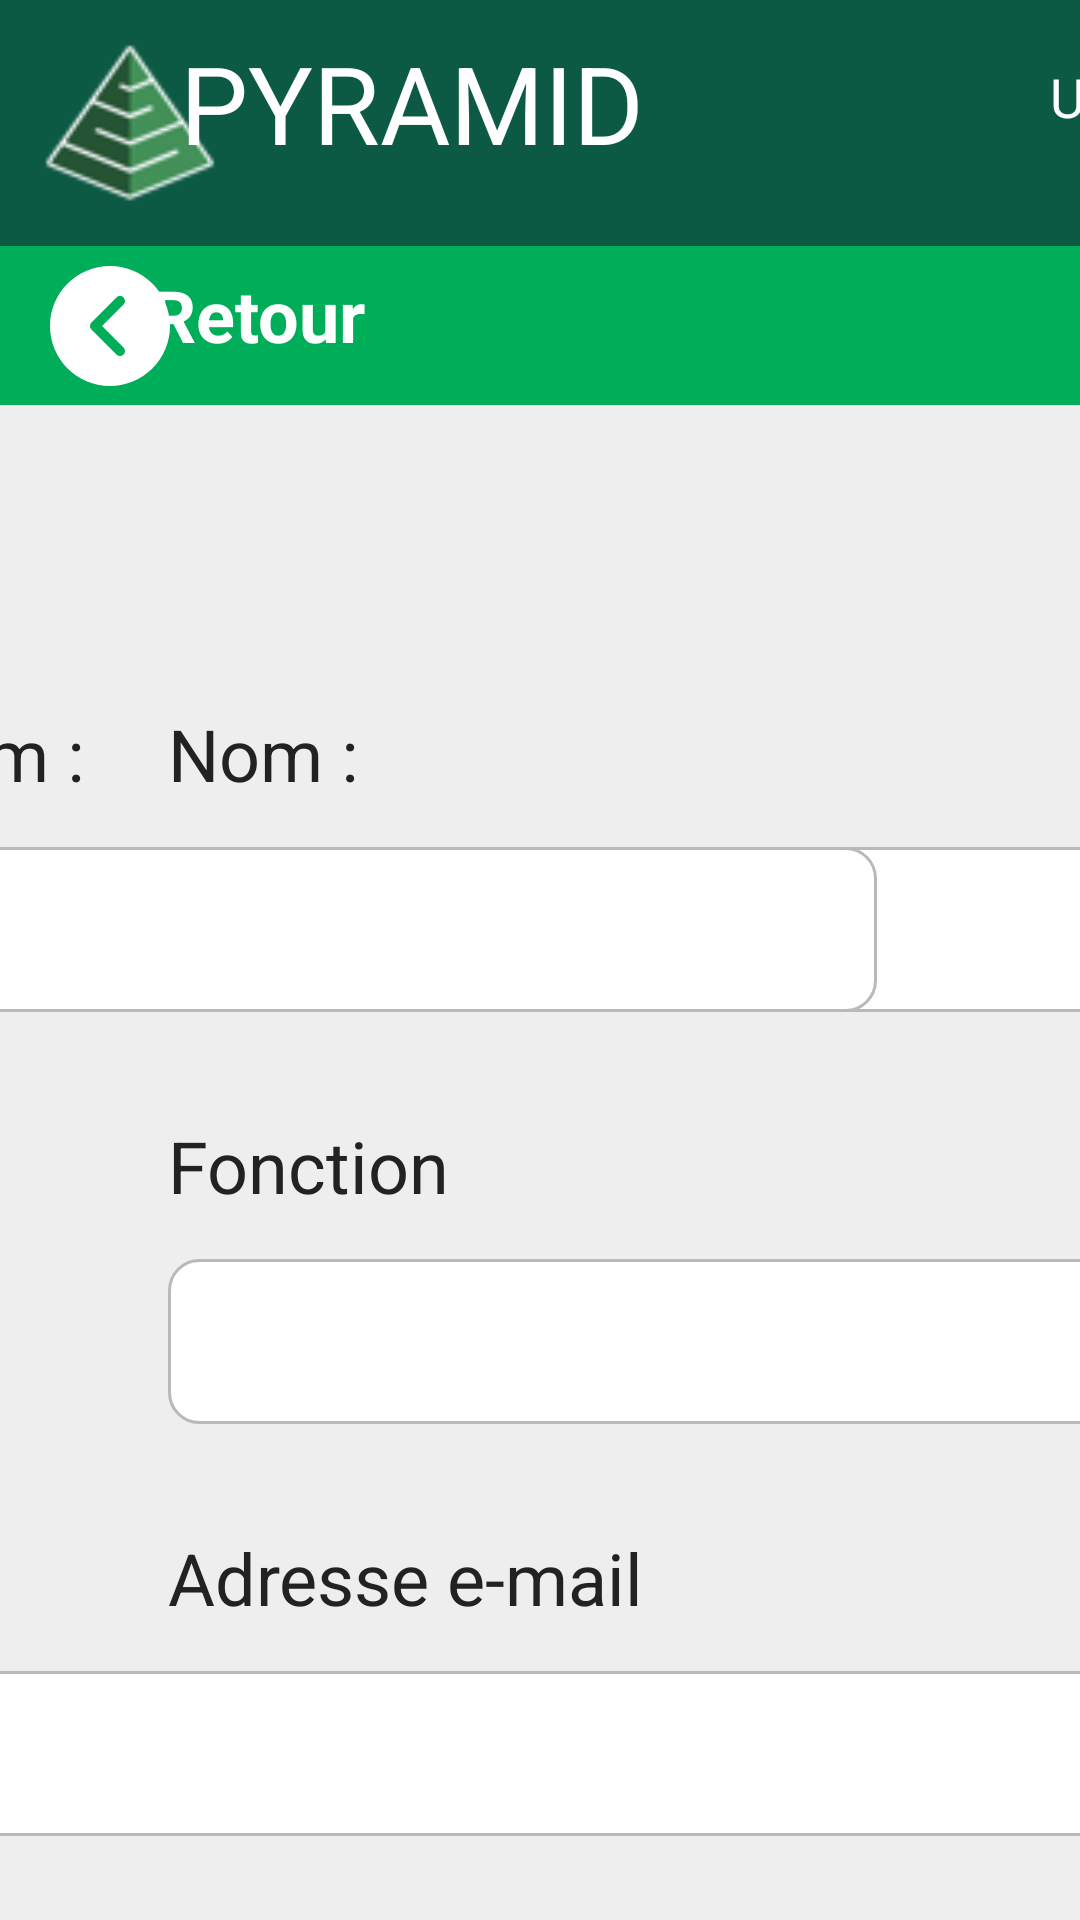

Where to tap for icons on this 1080px x 1920px app screen, as (x=x, y=y):
previous: (x=110, y=326)
